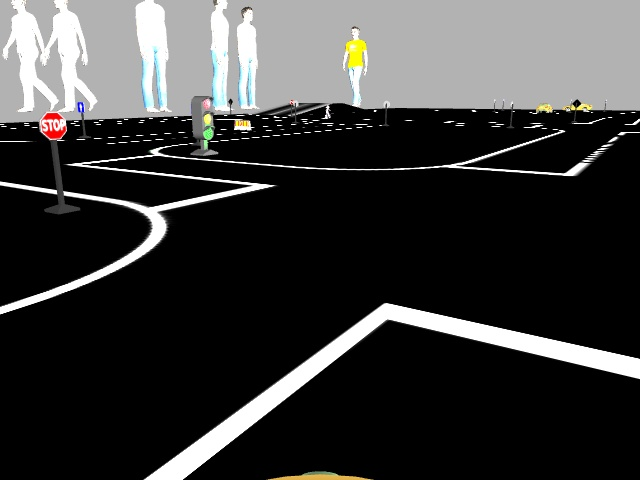ClosedRoadStand: (234, 119, 250, 131)
OneWay: (76, 102, 83, 112)
Stop: (37, 111, 67, 140)
TrafficLight: (190, 97, 212, 141)
